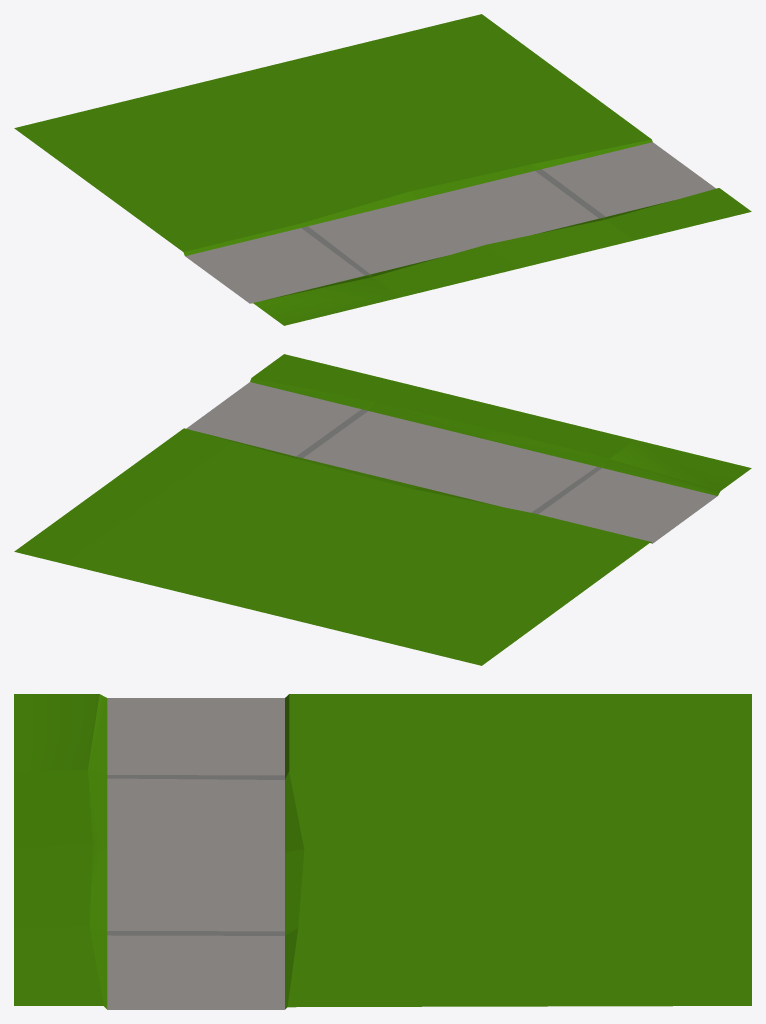
Rendered from GrassGround.fbx.
3 renders of one model, top to bottom at view 1: azimuth 30°, elevation 25°; view 2: azimuth 150°, elevation 25°; view 3: azimuth 270°, elevation 25°, orthographic. The views are drawn at different scales.
Visible parts, largest first — view 1: SM_Env_Path_02, SM_Env_Path_02.001, SM_Env_Path_02.002; view 2: SM_Env_Path_02, SM_Env_Path_02.001, SM_Env_Path_02.002; view 3: SM_Env_Path_02, SM_Env_Path_02.001, SM_Env_Path_02.002.
Boxes of the visible parts, <box> form: SM_Env_Path_02: <box>14,14,651,251</box>; SM_Env_Path_02.001: <box>183,139,715,303</box>; SM_Env_Path_02.002: <box>253,188,751,325</box>; SM_Env_Path_02: <box>14,428,650,665</box>; SM_Env_Path_02.001: <box>186,378,720,543</box>; SM_Env_Path_02.002: <box>252,354,751,490</box>; SM_Env_Path_02: <box>287,694,751,1007</box>; SM_Env_Path_02.001: <box>88,694,304,1009</box>; SM_Env_Path_02.002: <box>14,694,103,1005</box>.
Size of the model in its own units: 500 by 6.84 by 500.
